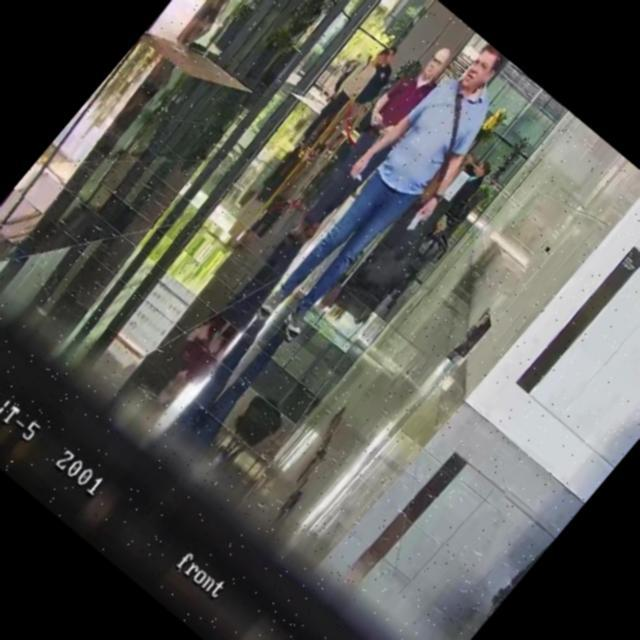person: (238, 26, 538, 360), (273, 34, 464, 250), (291, 36, 398, 157), (419, 156, 495, 244), (168, 0, 262, 59)
